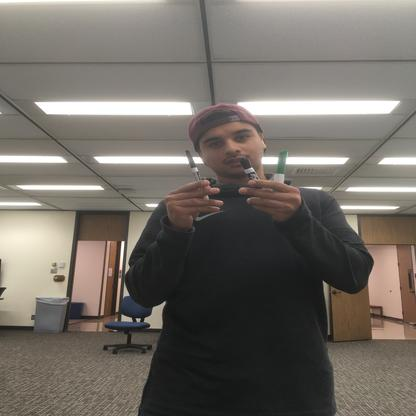expo_marker: (181, 146, 212, 198), (239, 155, 263, 186), (272, 148, 290, 186)
